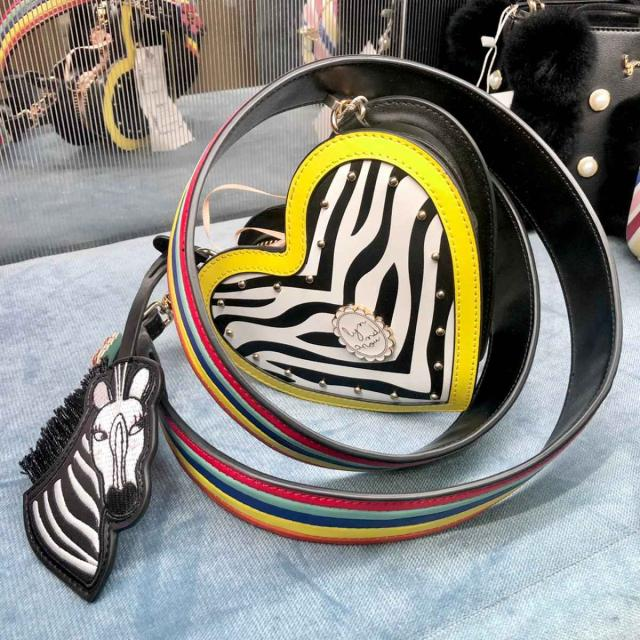Handbag: (180, 92, 559, 419)
